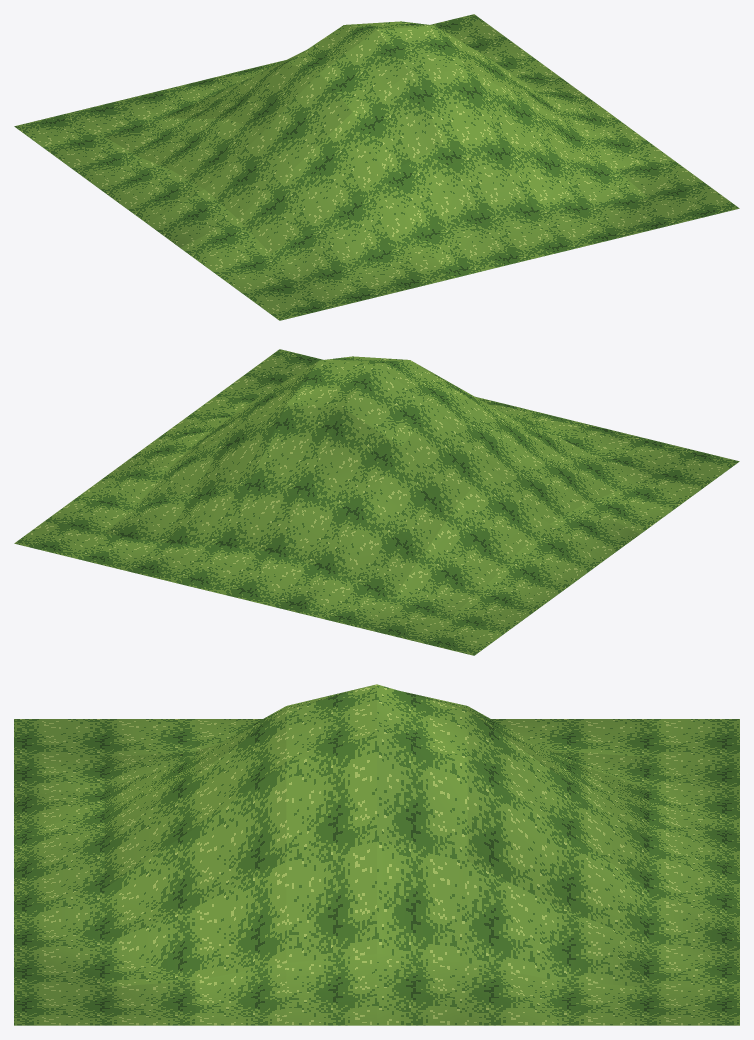
The model's file is mter.hill__big.glb.
3 renders of one model, top to bottom at view 1: azimuth 30°, elevation 25°; view 2: azimuth 150°, elevation 25°; view 3: azimuth 270°, elevation 25°, orthographic. The views are drawn at different scales.
Parts seen in each view (by area): view 1: kit_shell_hill; view 2: kit_shell_hill; view 3: kit_shell_hill.
Boxes of the visible parts, x1,y1,x2,y2 form: kit_shell_hill: [14, 14, 739, 320]; kit_shell_hill: [14, 349, 739, 655]; kit_shell_hill: [14, 684, 739, 1025].
Size of the model in its own units: 28 by 8 by 28.
Materials: 1 (1 with a texture image).
